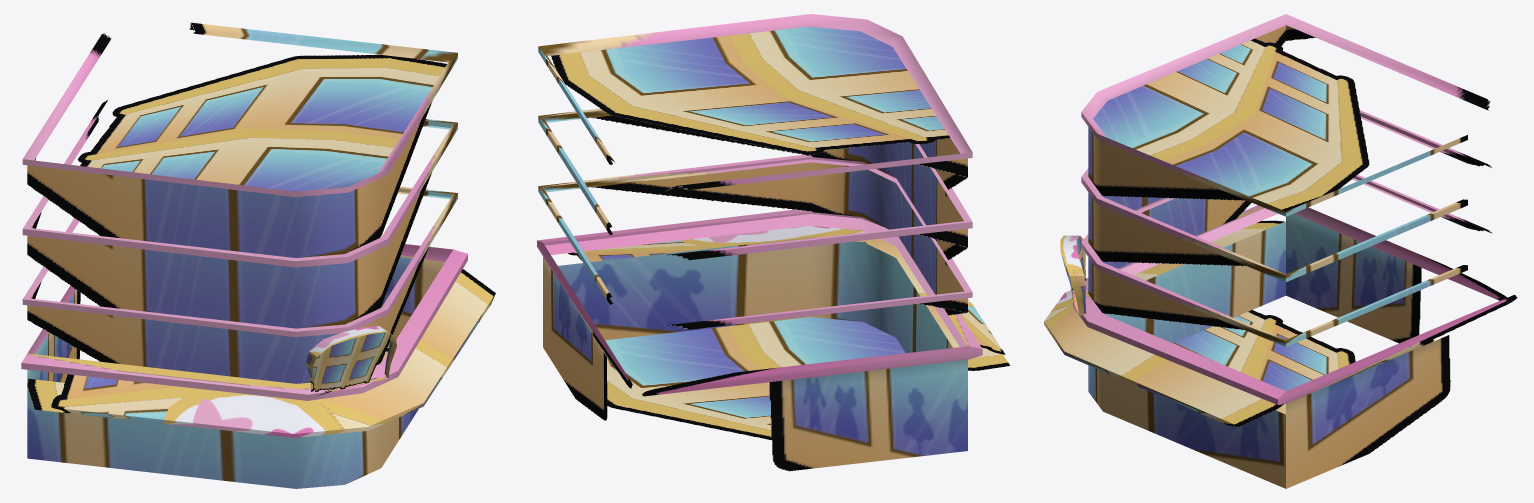
Rendered from departmentstore.fbx.
3 views of the same model, side by side, from view 1: azimuth 30°, elevation 25°; view 2: azimuth 150°, elevation 25°; view 3: azimuth 270°, elevation 25° (orthographic). The views are drawn at different scales.
Visible parts, largest first — view 1: building, sign; view 2: building; view 3: building, sign.
Boxes of the visible parts, <box> form: building: <box>21,22,495,488</box>; sign: <box>306,325,396,395</box>; building: <box>537,14,1010,471</box>; building: <box>1044,14,1517,488</box>; sign: <box>1060,235,1086,315</box>.
Bounding box in the file's own units: 6.19 × 3.65 × 5.63.
